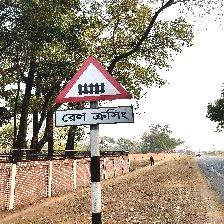Rail-crossing: (52, 56, 135, 128)
